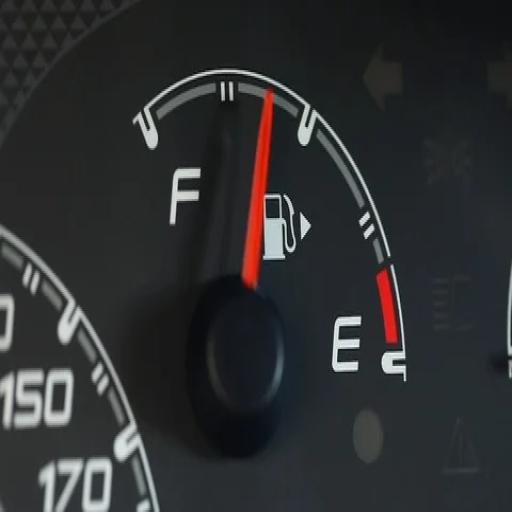empty: (330, 310, 362, 378)
fuel_icon: (260, 185, 296, 259)
full: (168, 156, 202, 230)
guage_area: (124, 50, 411, 458)
needle_center: (189, 262, 287, 449)
needle_tip: (254, 78, 278, 142)
